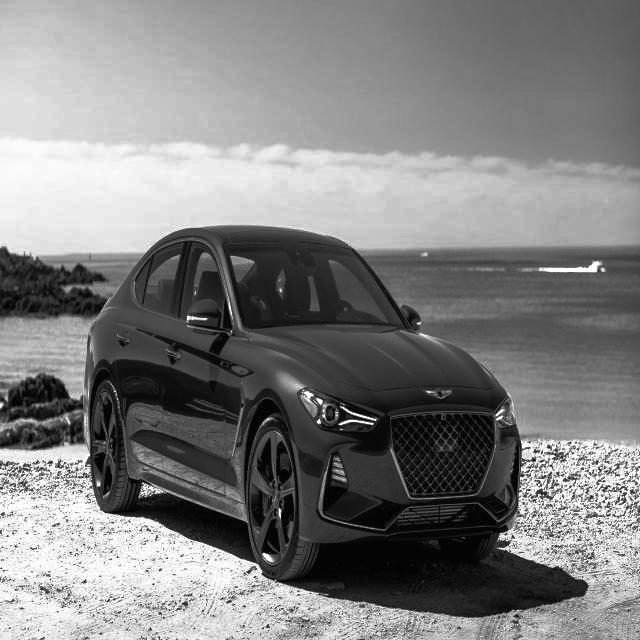Car: (81, 216, 529, 591)
